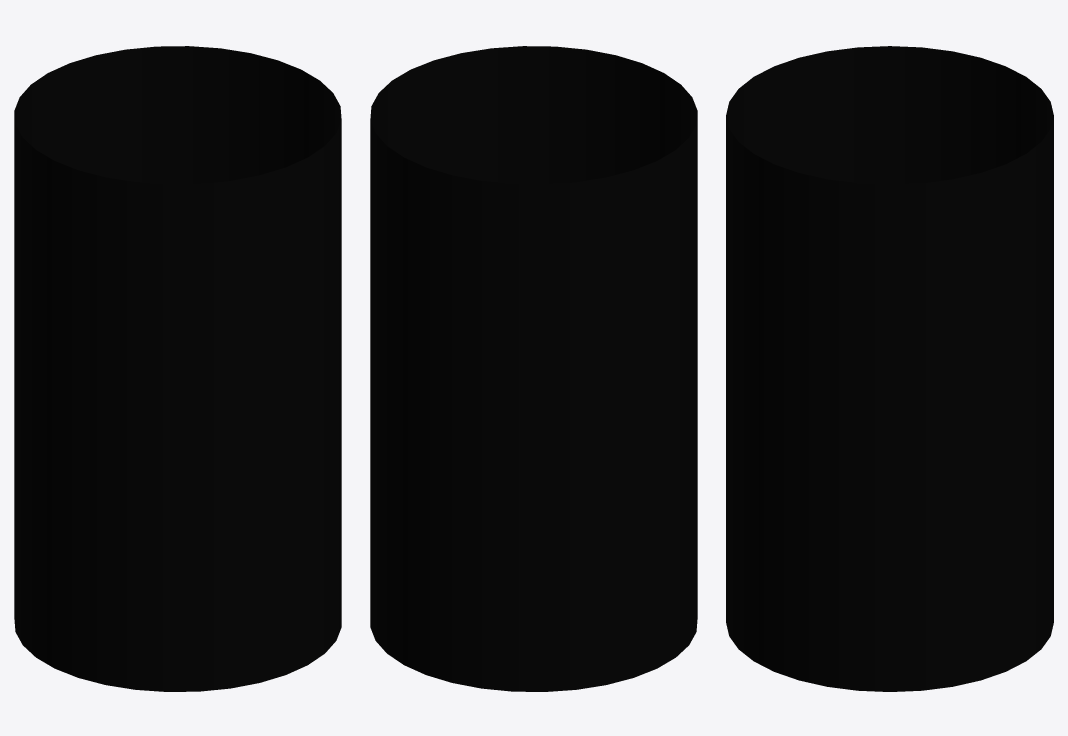
The model's file is cola.glb.
3 renders of one model, left to right at view 1: azimuth 30°, elevation 25°; view 2: azimuth 150°, elevation 25°; view 3: azimuth 270°, elevation 25°, orthographic.
Parts seen in each view (by area): view 1: Can_Body; view 2: Can_Body; view 3: Can_Body.
Boxes of the visible parts, x1,y1,x2,y2 form: Can_Body: [14, 46, 341, 691]; Can_Body: [370, 46, 697, 691]; Can_Body: [726, 46, 1053, 691].
Bounding box in the file's own units: 0.45 × 0.9025 × 0.45.
Materials: 2 (2 with a texture image).
